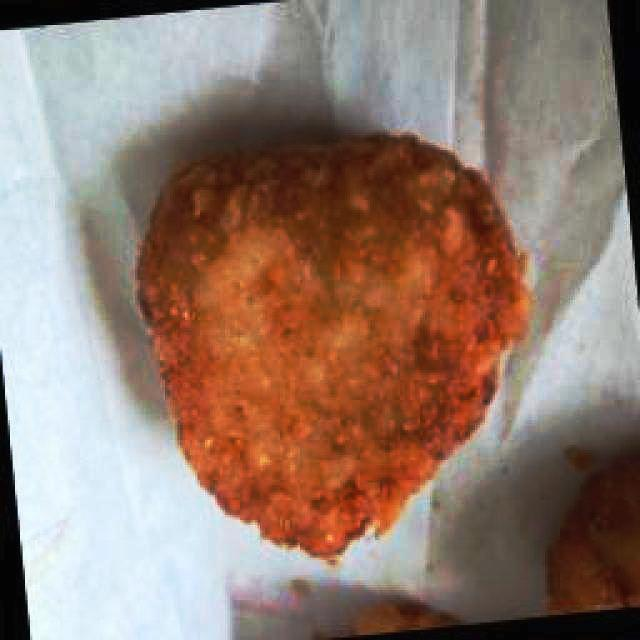Hashbrown: (136, 138, 527, 552)
